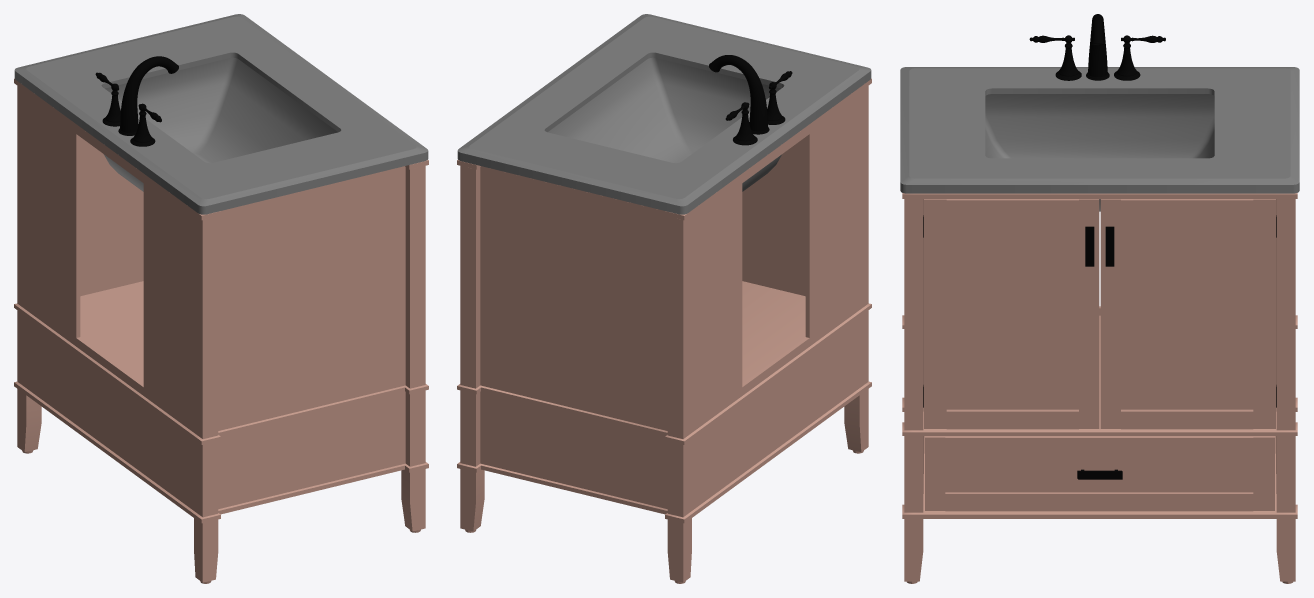
Rendered from vanity_low.FBX.
3 renders of one model, left to right at view 1: azimuth 30°, elevation 25°; view 2: azimuth 150°, elevation 25°; view 3: azimuth 270°, elevation 25°, orthographic. The views are drawn at different scales.
Parts seen in each view (by area): view 1: Vanity_01_low, Vanity_00_low, Vanity_03_low; view 2: Vanity_01_low, Vanity_00_low, Vanity_03_low; view 3: Vanity_00_low, Vanity_11_low, Vanity_12_low, Vanity_15_low, Vanity_01_low, Vanity_03_low, Vanity_05_low, Vanity_07_low.
Part boxes in pixels (<box>): Vanity_01_low: <box>14,78,428,583</box>; Vanity_00_low: <box>14,14,428,214</box>; Vanity_03_low: <box>118,56,178,135</box>; Vanity_01_low: <box>457,78,871,583</box>; Vanity_00_low: <box>457,14,871,214</box>; Vanity_03_low: <box>709,55,769,134</box>; Vanity_00_low: <box>900,67,1299,211</box>; Vanity_11_low: <box>924,199,1099,429</box>; Vanity_12_low: <box>1100,199,1275,429</box>; Vanity_15_low: <box>925,436,1274,511</box>; Vanity_01_low: <box>902,193,1297,583</box>; Vanity_03_low: <box>1086,14,1109,80</box>; Vanity_05_low: <box>1055,35,1081,80</box>; Vanity_07_low: <box>1114,35,1140,80</box>.
Bounding box in the file's own units: 58.18 × 109 × 82.74.
